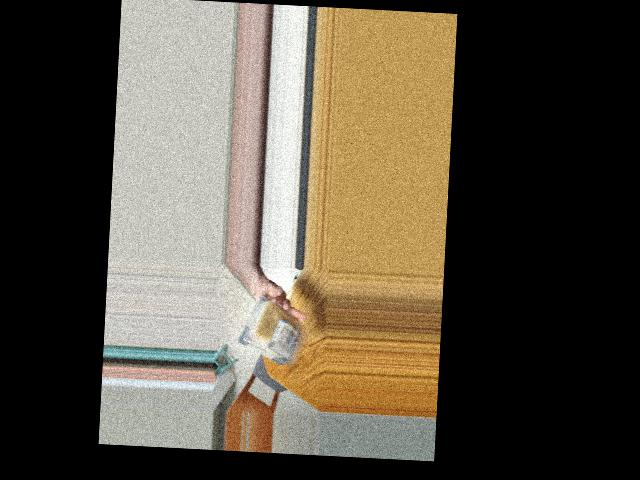cheese: (237, 311, 303, 365)
